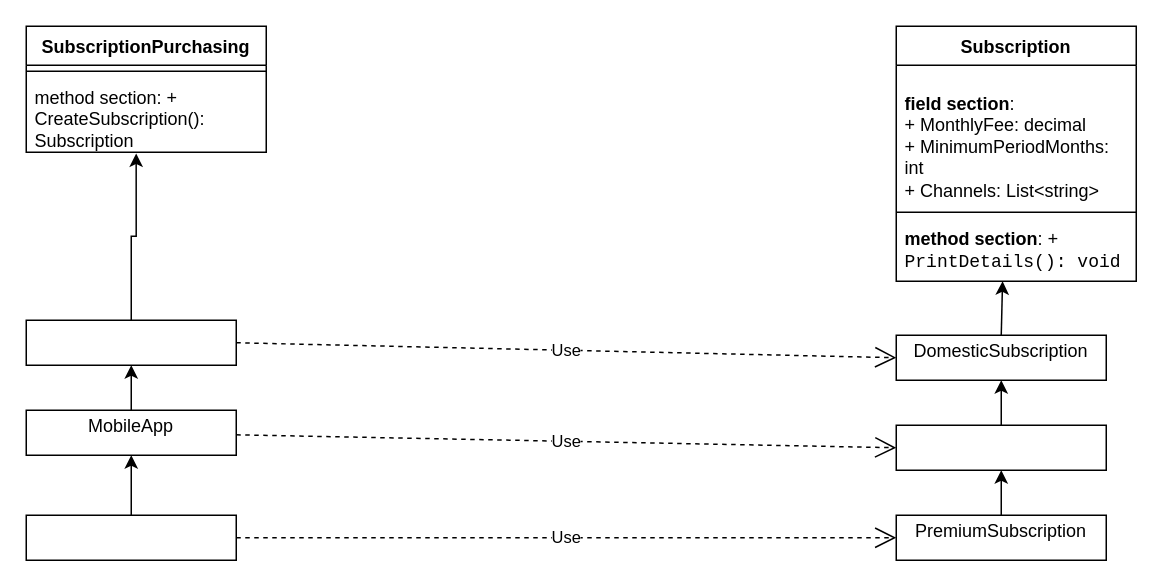
The diagram is 1163 pixels wide and 587 high, and some of its shapes have lost their labels. The shapes that lost their labels are listed below. From the top down, each one's centre as x and y in pixels, then its label:
At point 130,342: "WebSite".
At point 1000,447: "EducationalSubscription".
At point 130,537: "ManagerCall".
